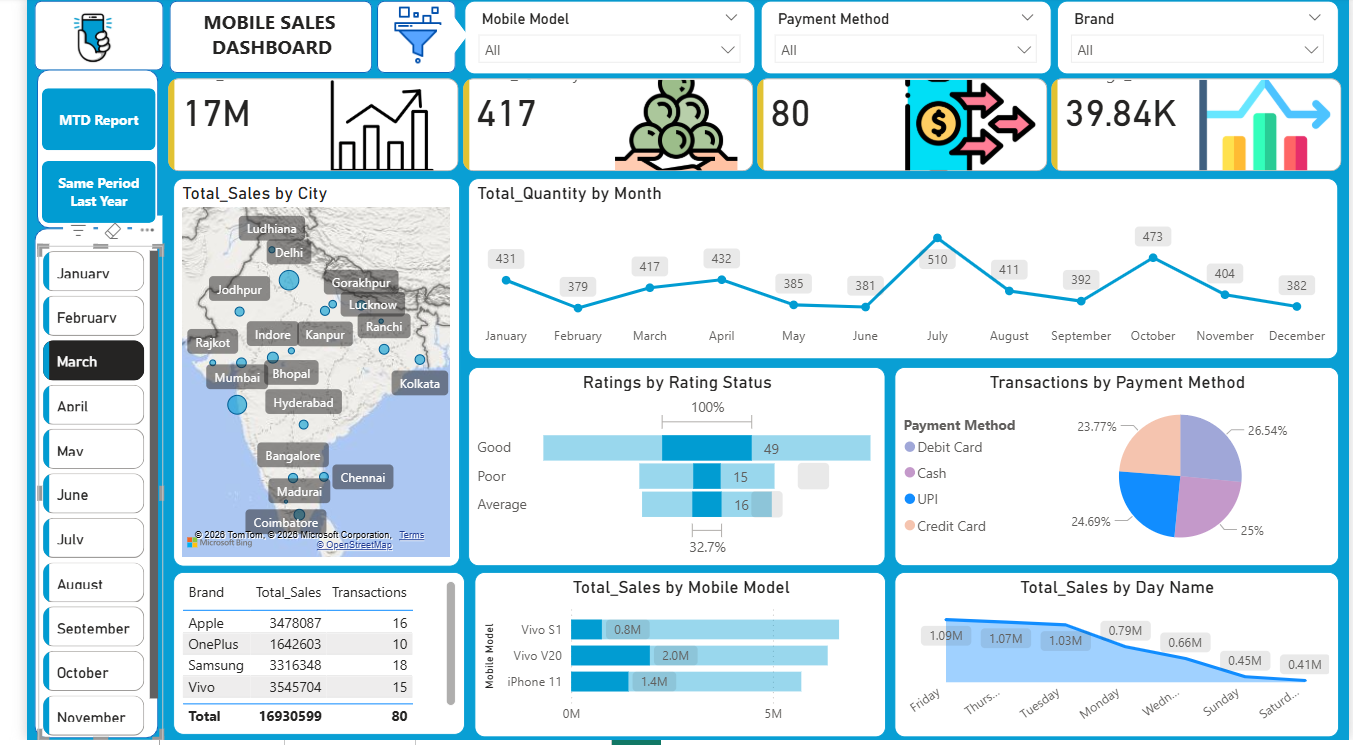

What the dashboard file says about the page in this screenshot:
{"tool":"powerbi","page":{"name":"Dashboard","canvas":[1280,720],"ordinal":0},"visuals":[{"type":"shape","box":[7.5,3.8,125,67.5],"z":0},{"type":"image","box":[23.8,3.8,78.8,71.2],"z":1000},{"type":"shape","box":[7.5,73.8,125,155],"z":2000},{"type":"shape","box":[7.5,232.5,125,481.2],"z":3000},{"type":"advancedSlicerVisual","fields":{"Values":["Custom_Calendar.Date.Variation.Date Hierarchy.Month"]},"box":[11.2,241.2,110,472.5],"z":4000},{"type":"cardVisual","fields":{"Data":["Sales_Data.Total_Sales","Sales_Data.Total_Quantity","Sales_Data.Transactions","Sales_Data.Average_Price"]},"box":[132.5,73.8,1147.5,100],"z":5000},{"type":"slicer","fields":{"Values":["Sales_Data.Mobile Model"]},"box":[423.8,3.8,281.2,71.2],"z":6000},{"type":"slicer","fields":{"Values":["Sales_Data.Payment Method"]},"box":[710,3.8,281.2,71.2],"z":7000},{"type":"slicer","fields":{"Values":["Sales_Data.Brand"]},"box":[997.5,3.8,272.5,71.2],"z":8000},{"type":"shape","box":[338.8,3.8,76.2,70],"z":9000},{"type":"image","box":[337.5,3.8,81.2,66.2],"z":10000},{"type":"shape","box":[397.5,17.5,30,40],"z":11000},{"type":"shape","box":[137.5,3.8,196.2,70],"z":12000},{"type":"textbox","box":[156.2,6.2,162.5,63.8],"z":13000},{"type":"map","fields":{"Category":["Sales_Data.City"],"Size":["Sales_Data.Total_Sales"]},"box":[141.2,175,277.5,376.2],"z":14000},{"type":"lineChart","fields":{"Y":["Sales_Data.Total_Quantity"],"Category":["Custom_Calendar.Date.Variation.Date Hierarchy.Month"]},"box":[427.5,175,842.5,175],"z":15000},{"type":"funnel","title":"Ratings by Rating Status","fields":{"Y":["CountNonNull(Sales_Data.Customer Ratings)"],"Category":["Sales_Data.Rating Status"]},"box":[427.5,358.8,403.8,192.5],"z":16000},{"type":"pieChart","fields":{"Y":["Sales_Data.Transactions"],"Category":["Sales_Data.Payment Method"]},"box":[840,358.8,430,192.5],"z":17000},{"type":"clusteredBarChart","fields":{"Y":["Sales_Data.Total_Sales"],"Category":["Sales_Data.Mobile Model"]},"box":[433.8,556.2,398.8,160],"z":18000},{"type":"areaChart","fields":{"Y":["Sales_Data.Total_Sales"],"Category":["Custom_Calendar.Day Name"]},"box":[840,556.2,430,160],"z":19000},{"type":"tableEx","fields":{"Values":["Sales_Data.Brand","Sales_Data.Total_Sales","Sales_Data.Transactions"]},"box":[141.2,556.2,282.5,157.5],"z":20000},{"type":"pageNavigator","box":[15,88.8,110,130],"z":21000}]}

Visuals, with their boxes in screenshot pixels (x1, y1, x2, y2), scaled from the page's 1280x720 canvas onto the 1353x745 screenshot:
shape: BBox(8, 4, 140, 74)
image: BBox(25, 4, 108, 78)
shape: BBox(8, 76, 140, 237)
shape: BBox(8, 241, 140, 738)
advancedSlicerVisual - Custom_Calendar.Date.Variation.Date Hierarchy.Month: BBox(12, 250, 128, 738)
cardVisual - Sales_Data.Total_Sales x Sales_Data.Total_Quantity: BBox(140, 76, 1352, 180)
slicer - Sales_Data.Mobile Model: BBox(448, 4, 745, 78)
slicer - Sales_Data.Payment Method: BBox(750, 4, 1048, 78)
slicer - Sales_Data.Brand: BBox(1054, 4, 1342, 78)
shape: BBox(358, 4, 439, 76)
image: BBox(357, 4, 443, 72)
shape: BBox(420, 18, 452, 59)
shape: BBox(145, 4, 353, 76)
textbox: BBox(165, 6, 337, 72)
map - Sales_Data.City x Sales_Data.Total_Sales: BBox(149, 181, 443, 570)
lineChart - Sales_Data.Total_Quantity x Custom_Calendar.Date.Variation.Date Hierarchy.Month: BBox(452, 181, 1342, 362)
"Ratings by Rating Status" funnel: BBox(452, 371, 879, 570)
pieChart - Sales_Data.Transactions x Sales_Data.Payment Method: BBox(888, 371, 1342, 570)
clusteredBarChart - Sales_Data.Total_Sales x Sales_Data.Mobile Model: BBox(459, 576, 880, 741)
areaChart - Sales_Data.Total_Sales x Custom_Calendar.Day Name: BBox(888, 576, 1342, 741)
tableEx - Sales_Data.Brand x Sales_Data.Total_Sales: BBox(149, 576, 448, 738)
pageNavigator: BBox(16, 92, 132, 226)
